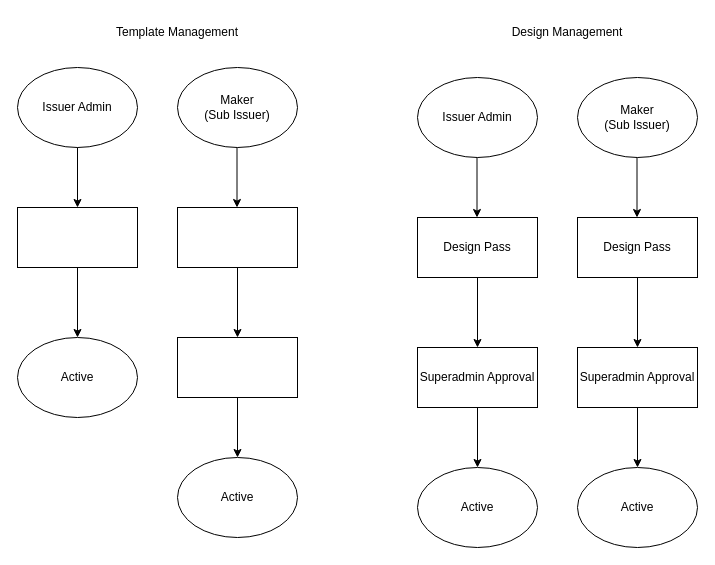
The diagram is 715 pixels wide and 565 high, and some of its shapes have lost their labels. Here are the shapes that lost their labels. From the top down, the centre of each, then its label:
At [77,237]: "Template (Active Immediately)".
At [237,237]: "Template".
At [237,367]: "Issuer Admin Approval".
